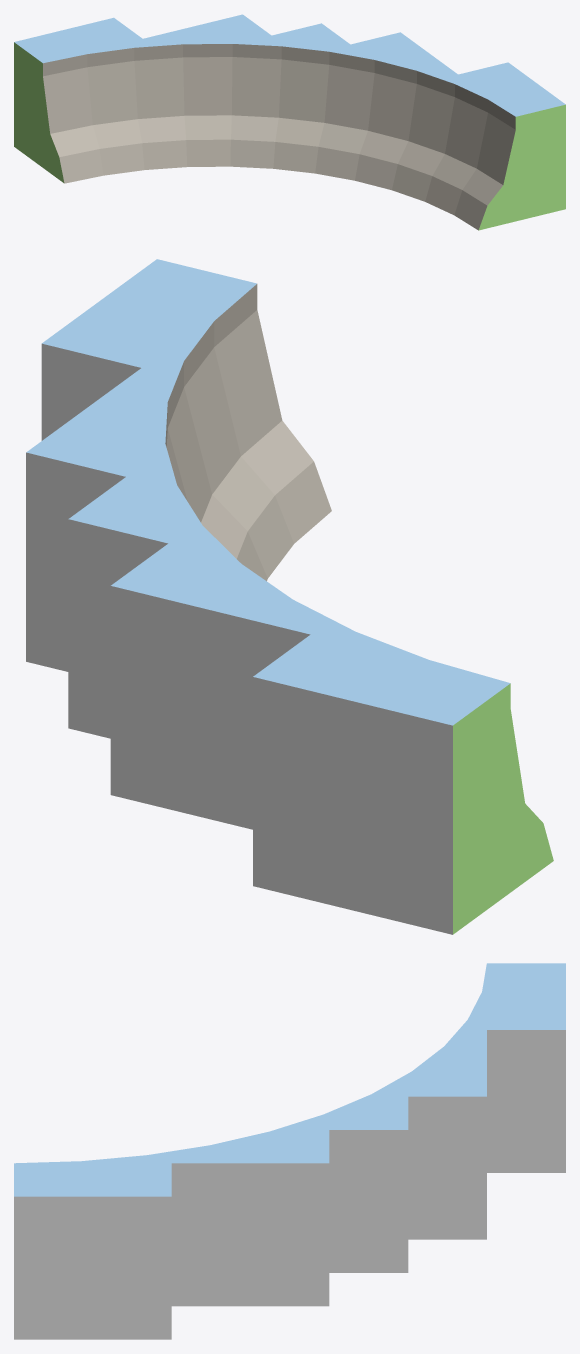
The model's file is Wall_Curve_Inner_7x7_Base.glb.
3 views of the same model, one above another, from view 1: azimuth 30°, elevation 25°; view 2: azimuth 150°, elevation 25°; view 3: azimuth 270°, elevation 25° (orthographic). The views are drawn at different scales.
Parts seen in each view (by area): view 1: Wall_Curve_Inner_7x7_Base; view 2: Wall_Curve_Inner_7x7_Base; view 3: Wall_Curve_Inner_7x7_Base.
Boxes of the visible parts, x1=… form: Wall_Curve_Inner_7x7_Base: x1=14, y1=14, x2=565, y2=230; Wall_Curve_Inner_7x7_Base: x1=26, y1=259, x2=553, y2=934; Wall_Curve_Inner_7x7_Base: x1=14, y1=963, x2=565, y2=1339.
Bounding box in the file's own units: 700 × 200 × 700.
